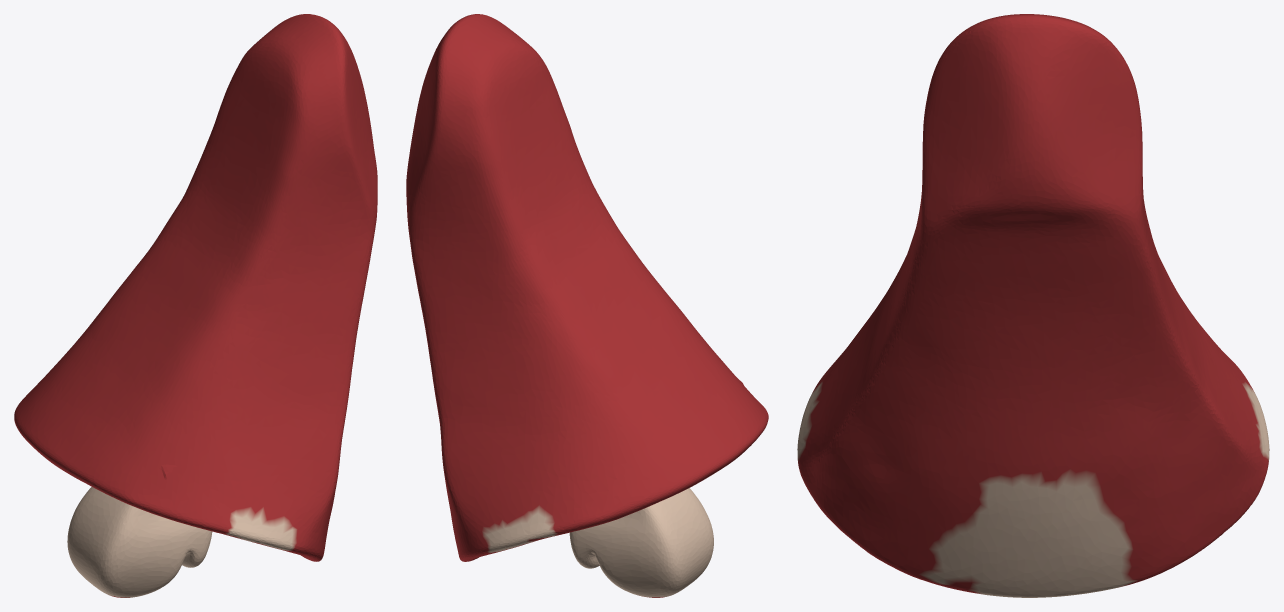
File: arm_R.glb
3 renders of one model, left to right at view 1: azimuth 30°, elevation 25°; view 2: azimuth 150°, elevation 25°; view 3: azimuth 270°, elevation 25°, orthographic. The views are drawn at different scales.
Parts seen in each view (by area): view 1: geometry_0; view 2: geometry_0; view 3: geometry_0.
Part boxes in pixels (x1,y1,x2,y2): geometry_0: (14,14,377,597); geometry_0: (406,14,768,597); geometry_0: (797,14,1269,597).
Bounding box in the file's own units: 0.2938 × 0.4636 × 0.3121.
